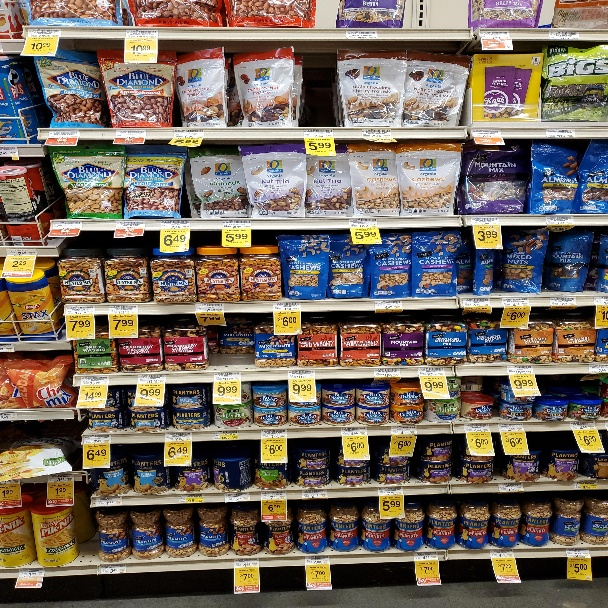All PRICE TAGS: (125, 29, 158, 39), (29, 29, 61, 39), (345, 30, 377, 40), (84, 434, 111, 444), (174, 129, 203, 138), (53, 221, 82, 230), (66, 305, 95, 314), (109, 305, 138, 314), (481, 31, 509, 40), (81, 376, 109, 385), (138, 374, 166, 383), (213, 372, 241, 381), (5, 249, 36, 257), (547, 216, 574, 225), (196, 303, 223, 312), (566, 548, 590, 558), (545, 129, 575, 137), (116, 130, 146, 138), (304, 129, 334, 137), (115, 221, 145, 229), (570, 421, 596, 430), (550, 297, 576, 306), (165, 432, 191, 441), (261, 429, 287, 438), (362, 129, 391, 137), (161, 221, 190, 229), (305, 556, 330, 565), (234, 558, 259, 567), (471, 217, 499, 225), (51, 130, 79, 138), (223, 221, 251, 229), (349, 219, 377, 227), (93, 497, 121, 505), (262, 491, 286, 500), (490, 549, 514, 558), (498, 423, 525, 431), (506, 366, 533, 374), (502, 298, 529, 306), (474, 129, 501, 137), (273, 302, 300, 310), (374, 301, 401, 309), (342, 427, 366, 436), (179, 494, 203, 503), (100, 565, 126, 573), (288, 370, 314, 378), (374, 368, 400, 376), (418, 367, 444, 375), (414, 552, 437, 561), (550, 32, 579, 39), (378, 487, 403, 495), (302, 490, 327, 498), (48, 474, 73, 482), (19, 569, 44, 577), (465, 424, 490, 432), (213, 431, 238, 439), (391, 426, 416, 434), (462, 299, 490, 306), (499, 483, 523, 491), (225, 493, 249, 501), (589, 365, 607, 374), (574, 482, 597, 489), (1, 412, 17, 421), (0, 147, 17, 155), (594, 297, 607, 305), (1, 344, 13, 352), (1, 481, 19, 483)
